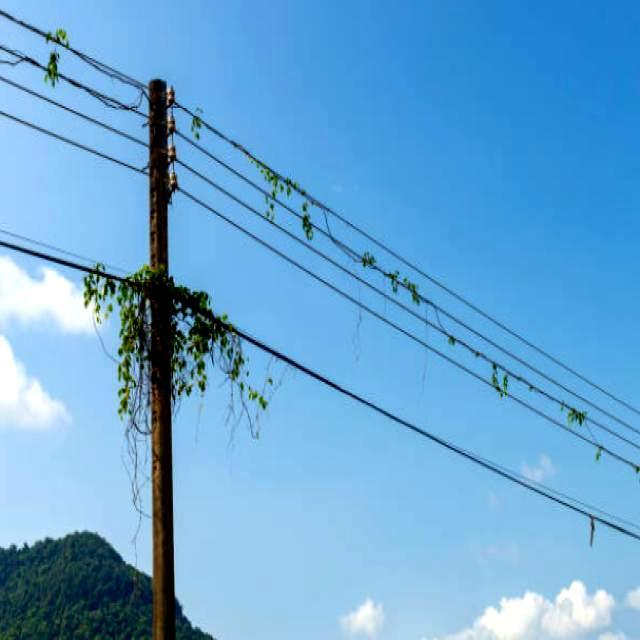light_pole: (100, 61, 237, 518), (86, 236, 248, 428)
